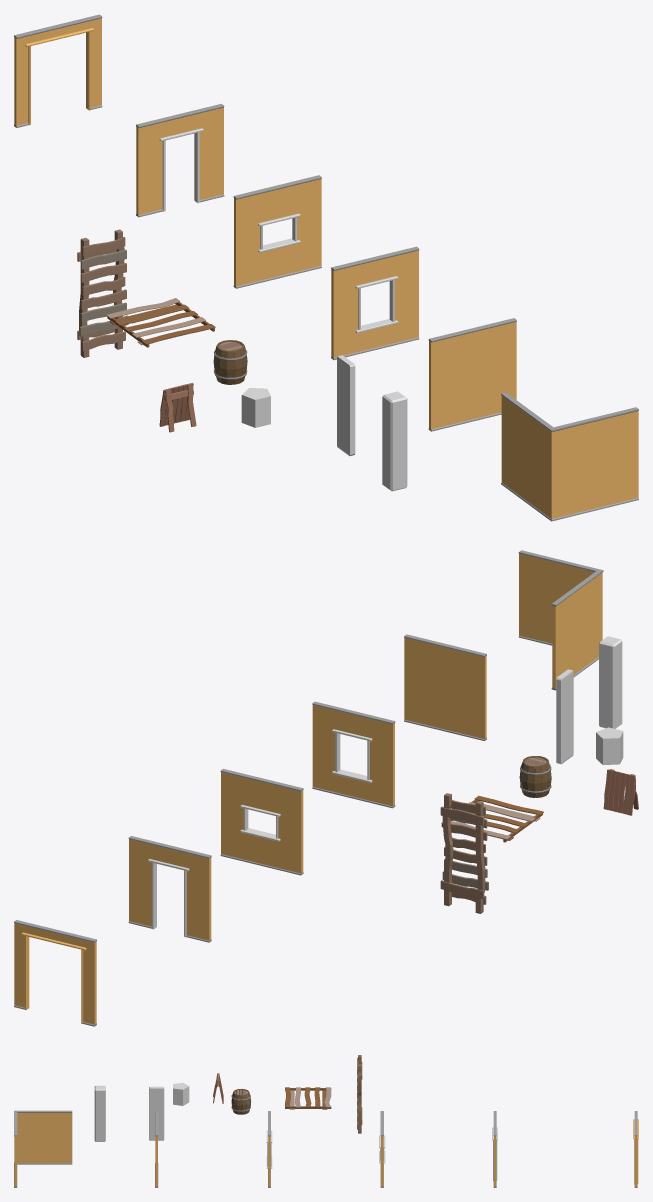
File: SandSetPreSet.fbx
3 renders of one model, top to bottom at view 1: azimuth 30°, elevation 25°; view 2: azimuth 150°, elevation 25°; view 3: azimuth 270°, elevation 25°, orthographic. The views are drawn at different scales.
Parts seen in each view (by area): view 1: Cube.001, Cube, Cube.003, Cube.002, Cube.004, Cube.010, Cube.005, Cube.007, Cube.008, Cube.006, Cylinder, Cube.009 (+1 smaller); view 2: Cube.001, Cube, Cube.003, Cube.002, Cube.004, Cube.010, Cube.005, Cube.007, Cube.006, Cube.008, Cube.009, Cylinder (+1 smaller); view 3: Cube.001, Cube.008, Cube.006, Cube.007, Cylinder, Cube.010, Cube.005, Cube.003, Cube.004, Cylinder.001, Cube.002, Cube.
Part boxes in pixels (box(x1,y1,x2,y2)): Cube.001: box(501, 392, 638, 521); Cube: box(428, 318, 516, 431); Cube.003: box(233, 175, 321, 288); Cube.002: box(331, 246, 419, 359); Cube.004: box(136, 103, 224, 217); Cube.010: box(77, 229, 128, 357); Cube.005: box(14, 14, 102, 127); Cube.007: box(382, 391, 407, 491); Cube.008: box(106, 298, 215, 347); Cube.006: box(337, 355, 355, 456); Cylinder: box(213, 340, 247, 384); Cube.009: box(159, 383, 196, 432); Cube.001: box(518, 550, 603, 690); Cube: box(404, 634, 486, 740); Cube.003: box(220, 768, 303, 875); Cube.002: box(312, 701, 395, 808); Cube.004: box(128, 836, 211, 942); Cube.010: box(440, 793, 488, 913); Cube.005: box(14, 920, 96, 1026); Cube.007: box(599, 636, 622, 728); Cube.006: box(556, 669, 573, 764); Cube.008: box(441, 795, 543, 842); Cube.009: box(603, 769, 638, 815); Cylinder: box(519, 756, 551, 797); Cube.001: box(14, 1110, 72, 1187); Cube.008: box(285, 1087, 331, 1109); Cube.006: box(149, 1086, 164, 1140); Cube.007: box(94, 1085, 105, 1141); Cylinder: box(231, 1089, 251, 1114); Cube.010: box(357, 1055, 362, 1133); Cube.005: box(633, 1111, 638, 1187); Cube.003: box(379, 1111, 385, 1187); Cube.004: box(492, 1111, 497, 1187); Cylinder.001: box(173, 1082, 189, 1105); Cube.002: box(266, 1111, 272, 1187); Cube: box(155, 1111, 158, 1187).
Size of the model in its own units: 708 by 264 by 2216.
